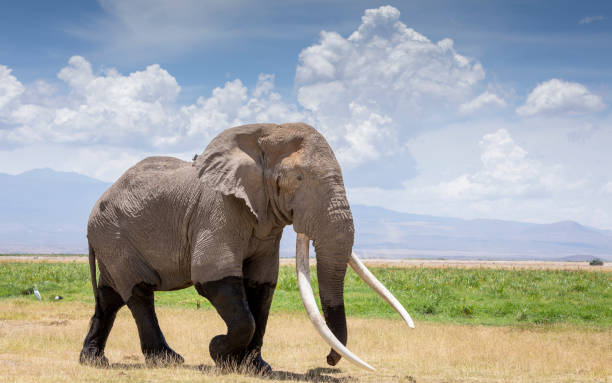africanelephant: (255, 126, 361, 327)
